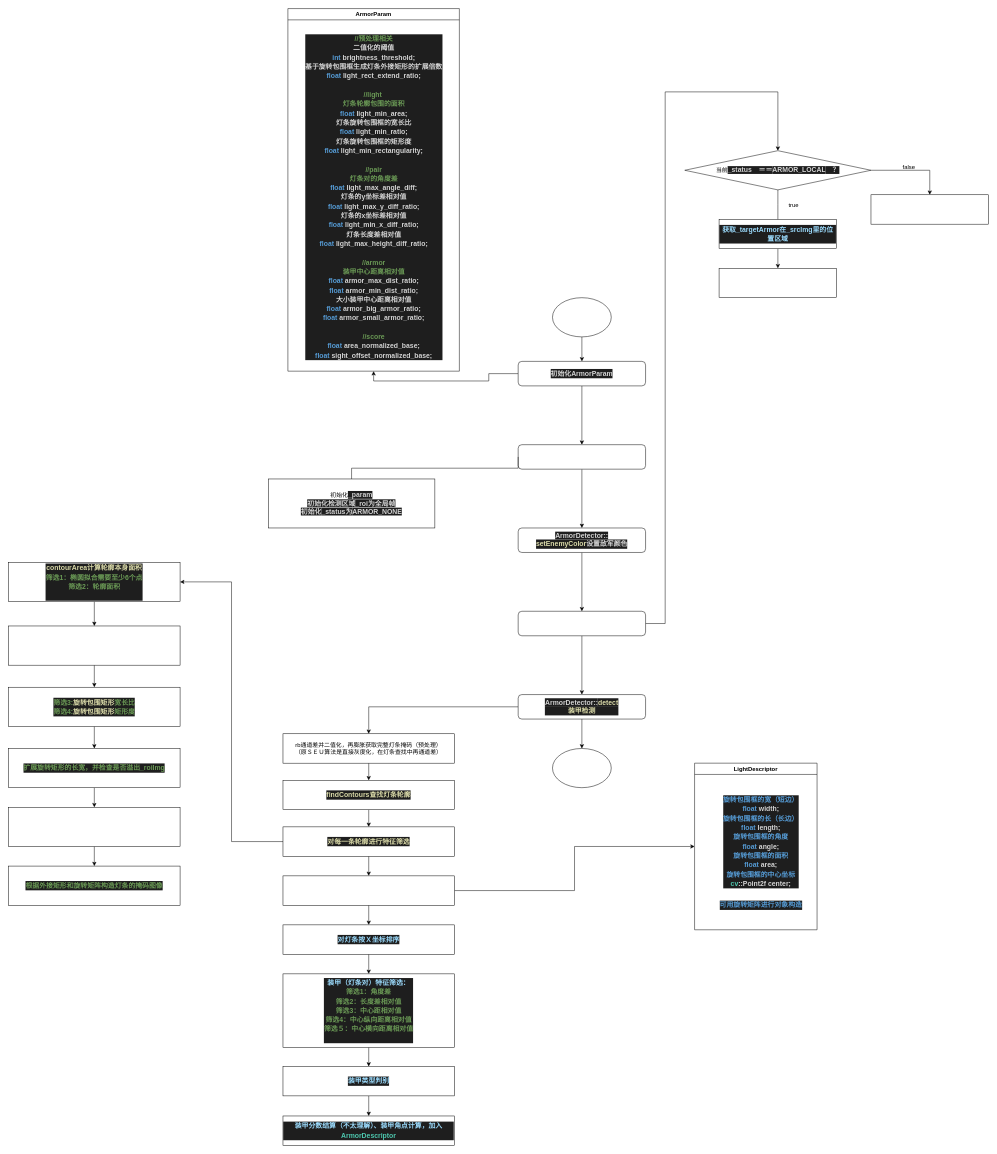
Image size: 997x1154. Some labels were removed from this diagram. The centre of each missing label's shape, as x and y in pixels:
"ArmorDetector:: loadImg 加载帧" belongs at pixel 582 623.
"fitEllipse获取旋转包围矩形， adjustRec 对角度进行调整" belongs at pixel 94 645.
"START" belongs at pixel 581 317.
"利用param初始化 ArmorDetector" belongs at pixel 582 456.
"将区域扩大２倍作为检测区域_roi和_roiImg" belongs at pixel 778 283.
"将整张图_srcImg作为_roi和_roiImg" belongs at pixel 929 209.
"获取旋转包围矩形的外接矩形" belongs at pixel 94 826.
"通过筛选的灯条加入到灯条描述器lightInfos" belongs at pixel 368 890.
"ＥＮＤ" belongs at pixel 581 768.
